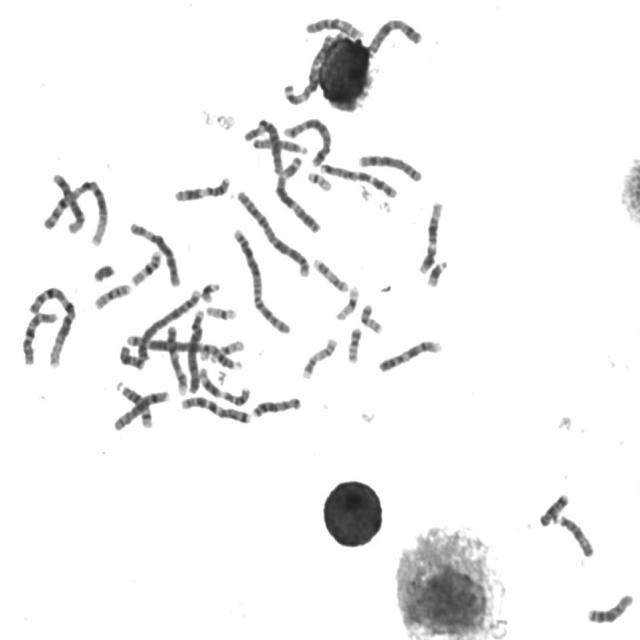A1: (44, 173, 110, 248), (25, 281, 79, 369)
A2: (234, 186, 312, 279), (230, 224, 292, 336)
A3: (274, 152, 324, 234), (281, 30, 334, 107)
B4: (134, 285, 204, 372), (183, 304, 207, 394)
B5: (122, 330, 205, 375), (281, 113, 333, 168)
C10: (20, 307, 60, 367), (303, 14, 366, 41)
C11: (195, 362, 252, 408), (170, 173, 232, 203)
C12: (48, 169, 87, 235), (416, 198, 445, 276)
C6: (126, 218, 182, 288), (241, 115, 285, 176)
C7: (317, 160, 399, 199), (177, 392, 252, 426)
C8: (110, 387, 172, 432), (354, 150, 424, 183)
C9: (376, 336, 444, 374), (163, 321, 191, 395)
D13: (584, 590, 636, 625), (250, 396, 306, 420)
D14: (113, 378, 155, 430), (195, 340, 248, 378)
D15: (554, 510, 596, 559), (249, 134, 311, 155)
E16: (128, 246, 164, 288), (91, 280, 133, 311)
E17: (299, 333, 339, 381), (310, 254, 350, 294)
E18: (537, 489, 571, 528), (116, 342, 146, 372)
F19: (332, 282, 361, 322), (202, 302, 238, 322)
F20: (357, 301, 385, 335), (344, 324, 364, 364)
G21: (423, 256, 450, 288), (199, 278, 222, 304)
G22: (206, 336, 246, 366), (304, 168, 333, 193)
X: (364, 15, 424, 57)
Y: (90, 260, 116, 283)
